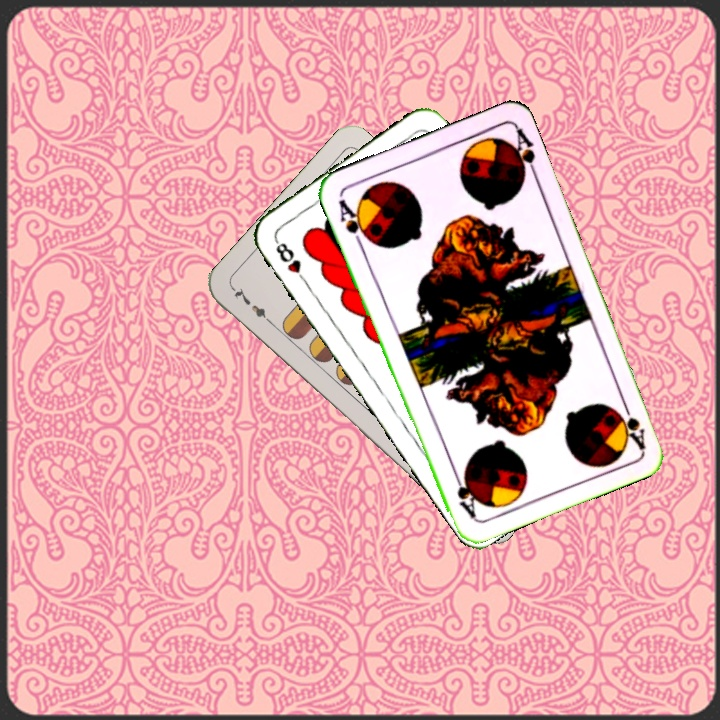E7: (228, 283, 276, 328)
H8: (270, 235, 311, 287)
SA: (610, 394, 648, 452), (334, 195, 373, 250)
